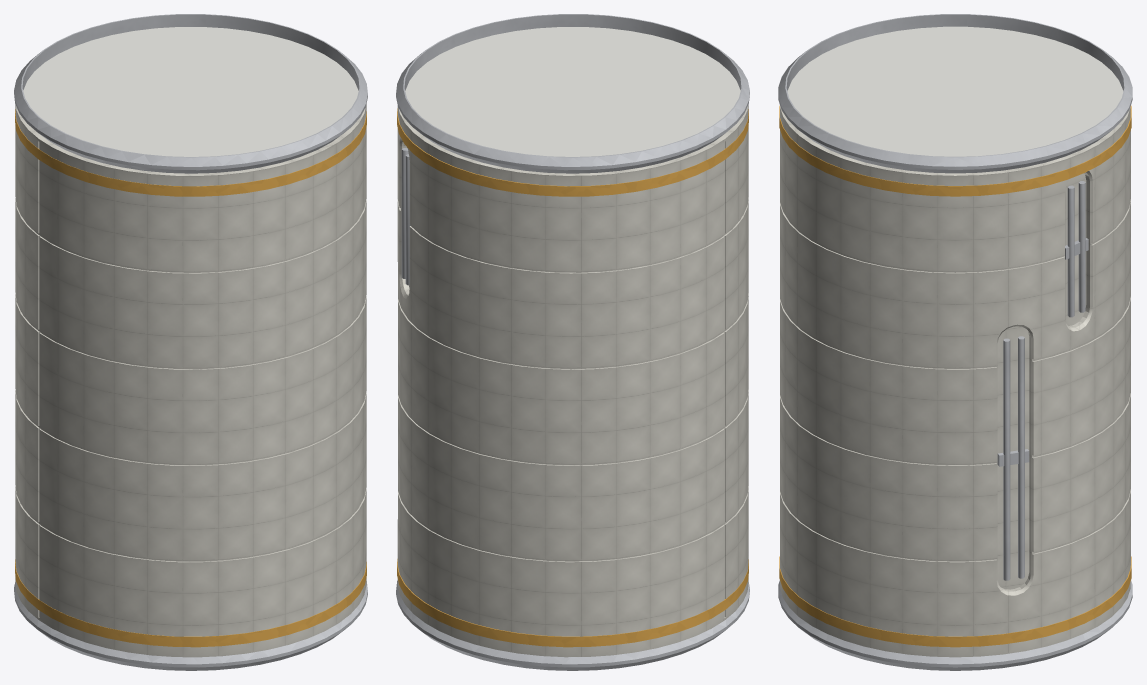
File: ax_tank_12_isru_lox_m.glb
3 views of the same model, side by side, from view 1: azimuth 30°, elevation 25°; view 2: azimuth 150°, elevation 25°; view 3: azimuth 270°, elevation 25° (orthographic).
Parts seen in each view (by area): view 1: mli_blanket, dome_caps, end_rings, blanket_bands; view 2: mli_blanket, dome_caps, end_rings, blanket_bands, raceway_lines; view 3: mli_blanket, dome_caps, end_rings, blanket_bands, raceway_lines.
Boxes of the visible parts, box(x1,y1,x2,y2) form: mli_blanket: box(15, 104, 366, 657); dome_caps: box(23, 27, 358, 156); end_rings: box(14, 14, 367, 670); blanket_bands: box(15, 109, 366, 647); mli_blanket: box(397, 105, 748, 657); dome_caps: box(405, 27, 740, 156); end_rings: box(396, 14, 749, 670); blanket_bands: box(397, 108, 748, 647); raceway_lines: box(401, 148, 410, 285); mli_blanket: box(780, 106, 1130, 657); dome_caps: box(787, 26, 1123, 156); end_rings: box(778, 14, 1132, 670); blanket_bands: box(779, 105, 1131, 647); raceway_lines: box(997, 181, 1088, 580).
Size of the model in its own units: 2.5 by 4 by 2.5.
4 materials, 3 textured.
